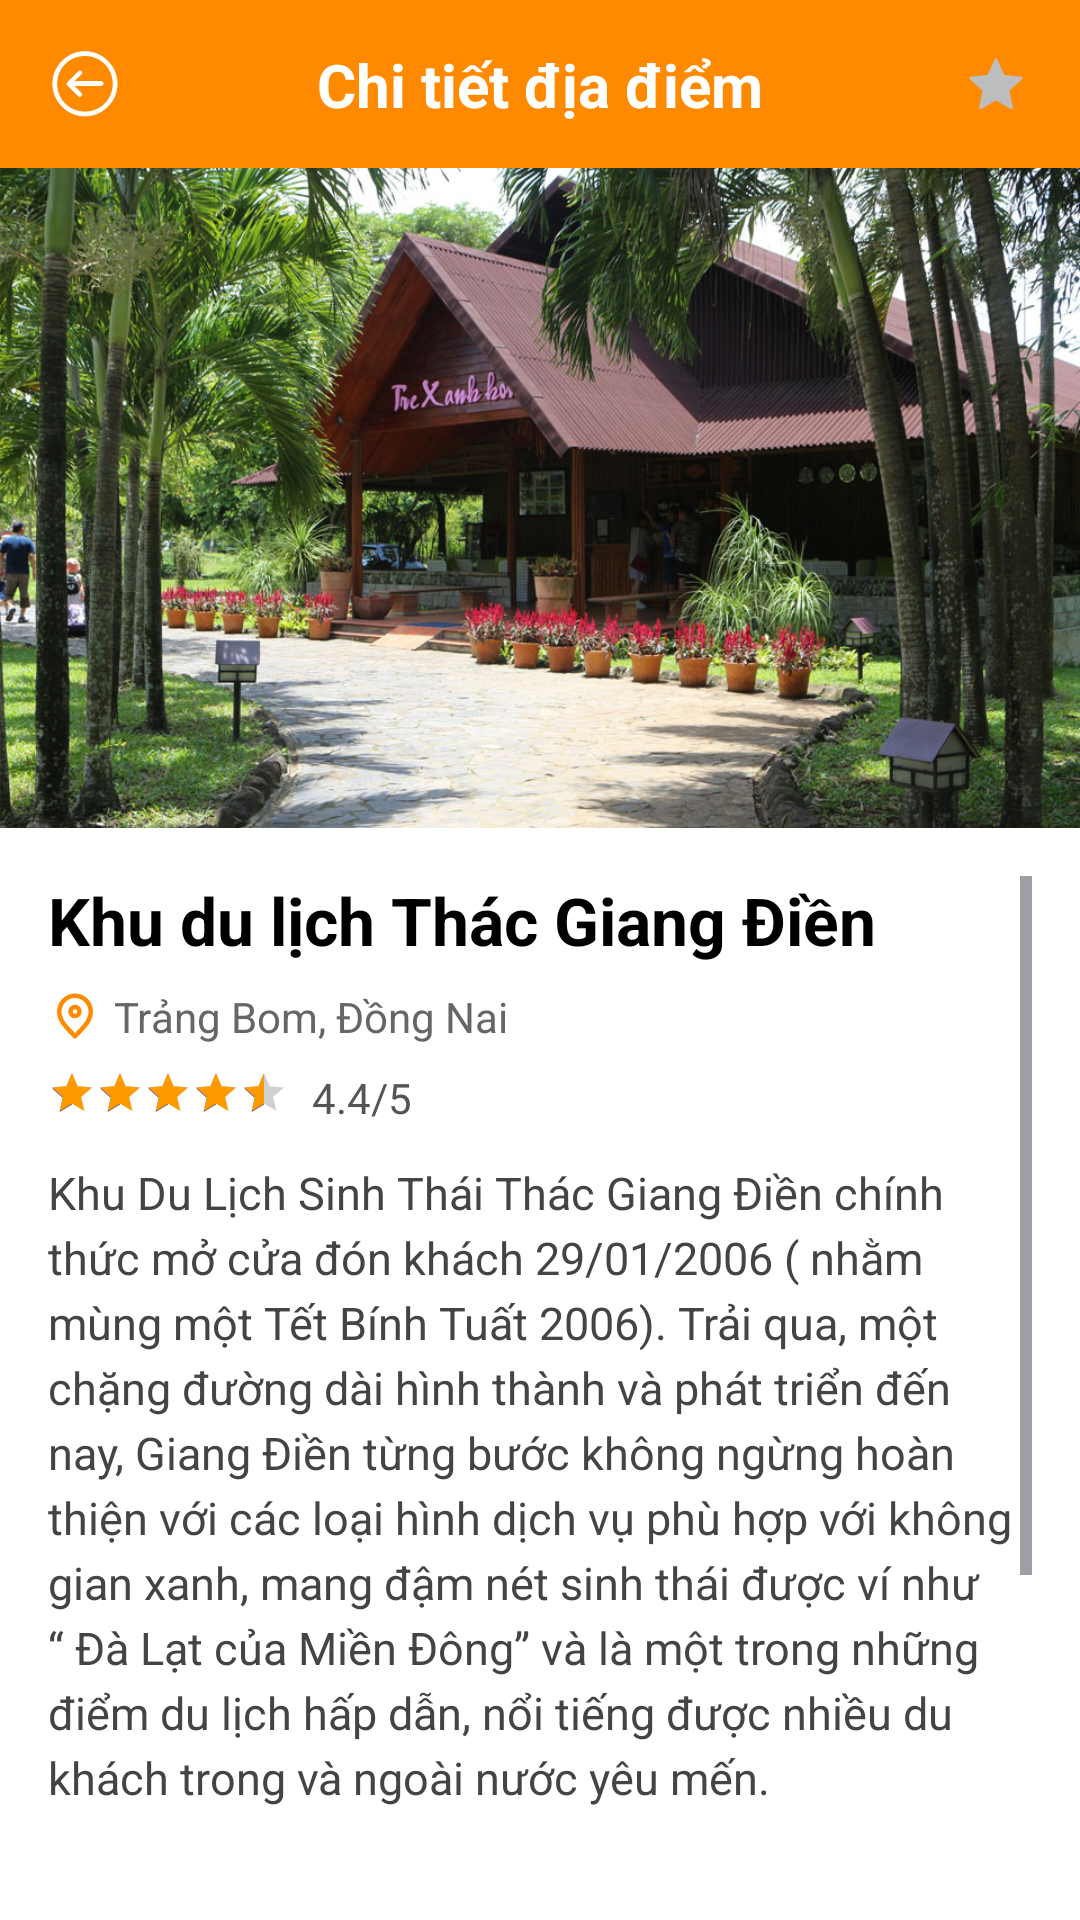

Icon click points for this 1080x1920 phone screenshot, format (x,y):
Biểu tượng vị trí: (75,1016)
Quay lại: (85,84)
Thêm hoặc xóa khỏi yêu thích: (996,83)
